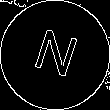N_S: (28, 25, 82, 85)
